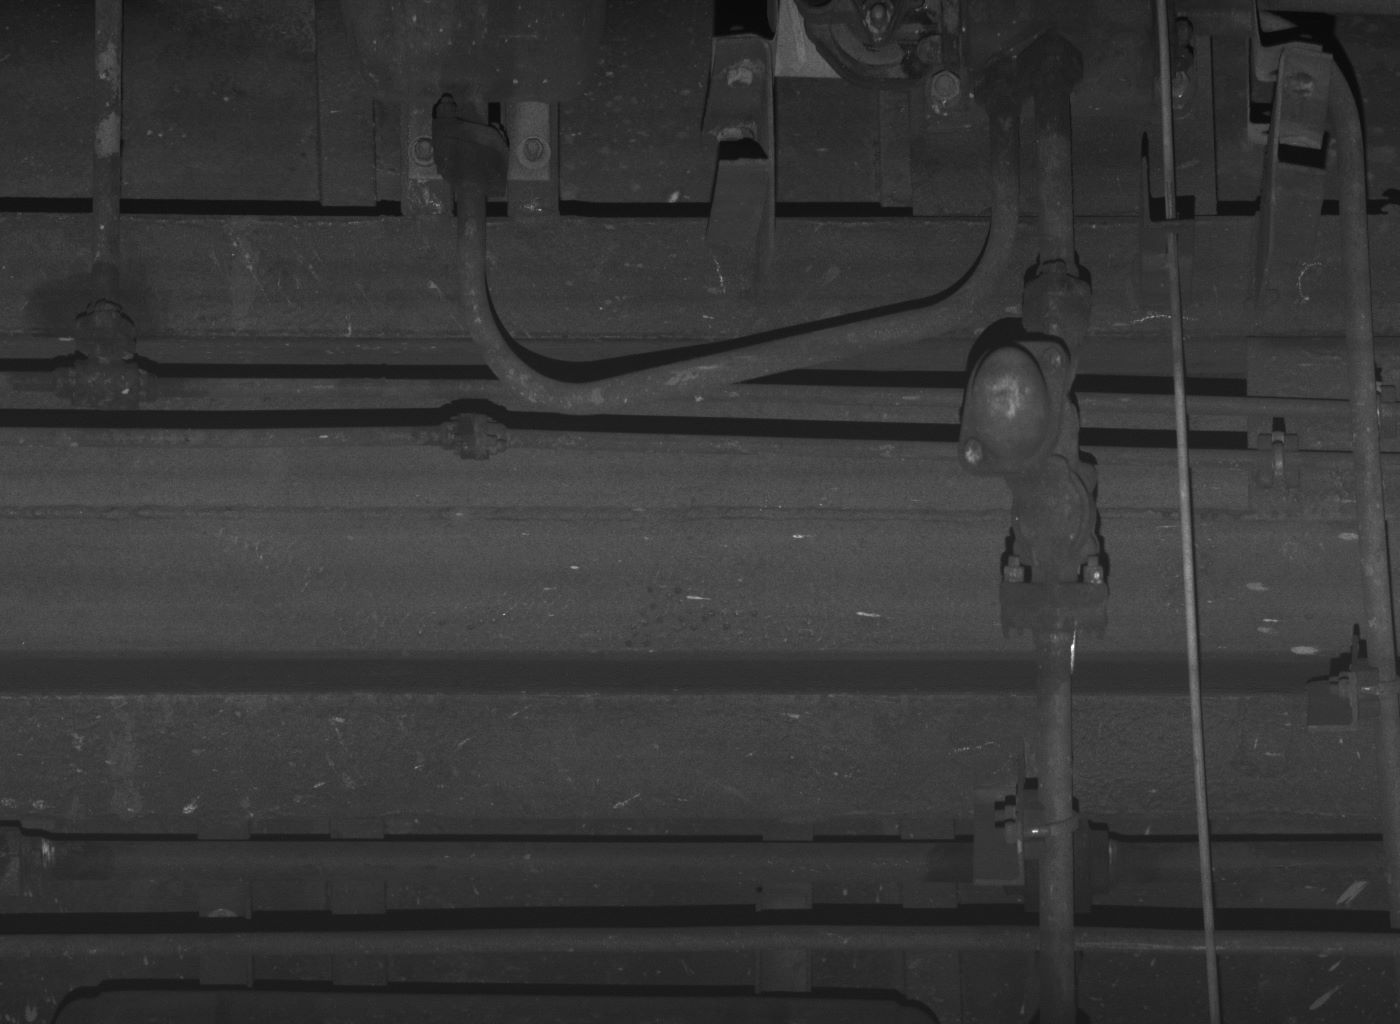normal: (1008, 459, 1103, 563)
